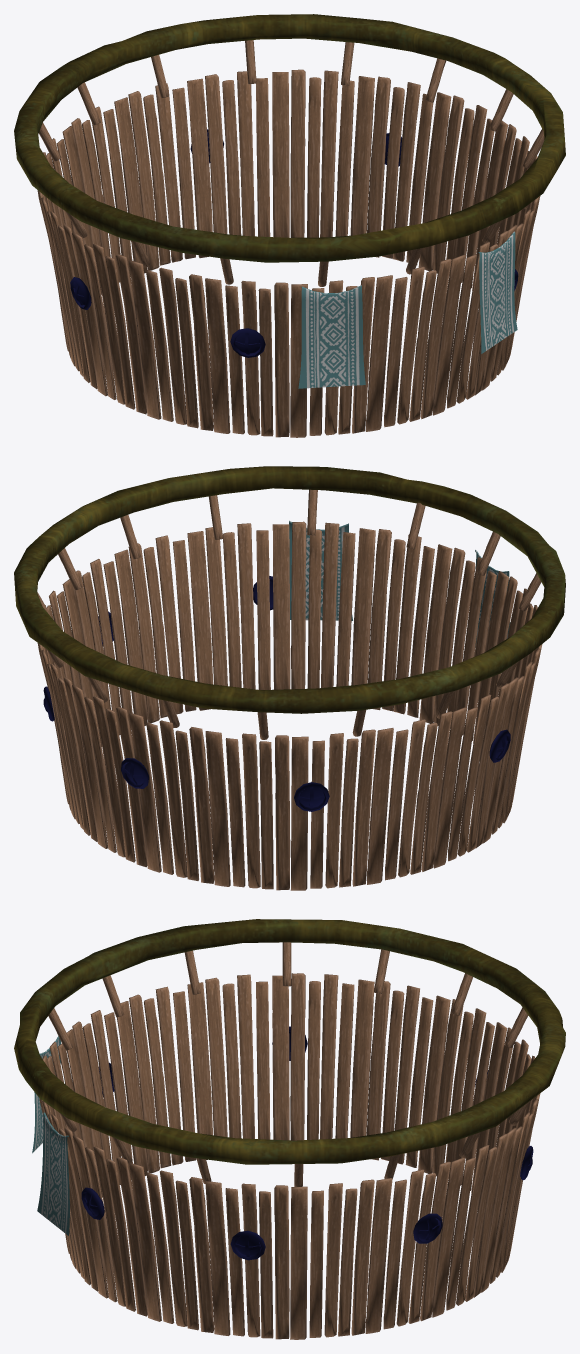
The model's file is SM_center_piece.fbx.
The picture shows the model from 3 angles, top to bottom: view 1: azimuth 30°, elevation 25°; view 2: azimuth 150°, elevation 25°; view 3: azimuth 270°, elevation 25°; orthographic projection.
Parts seen in each view (by area): view 1: center_piece; view 2: center_piece; view 3: center_piece.
Part boxes in pixels (left/top/right/bottom): center_piece: left=14, top=14, right=565, bottom=437; center_piece: left=14, top=466, right=565, bottom=890; center_piece: left=14, top=919, right=565, bottom=1339.
Bounding box in the file's own units: 1341 × 581 × 1348.
